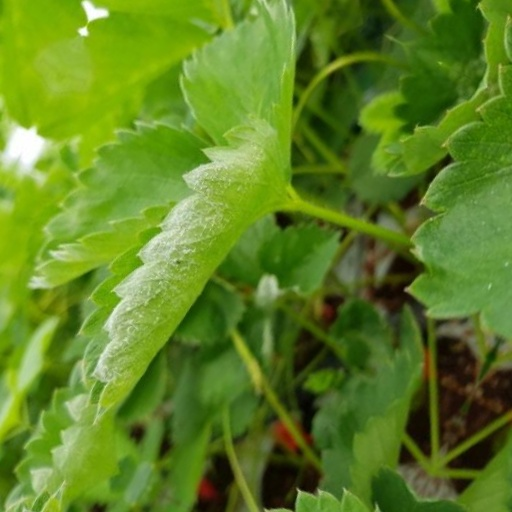Powdery Mildew Leaf: (249, 129, 387, 482)
